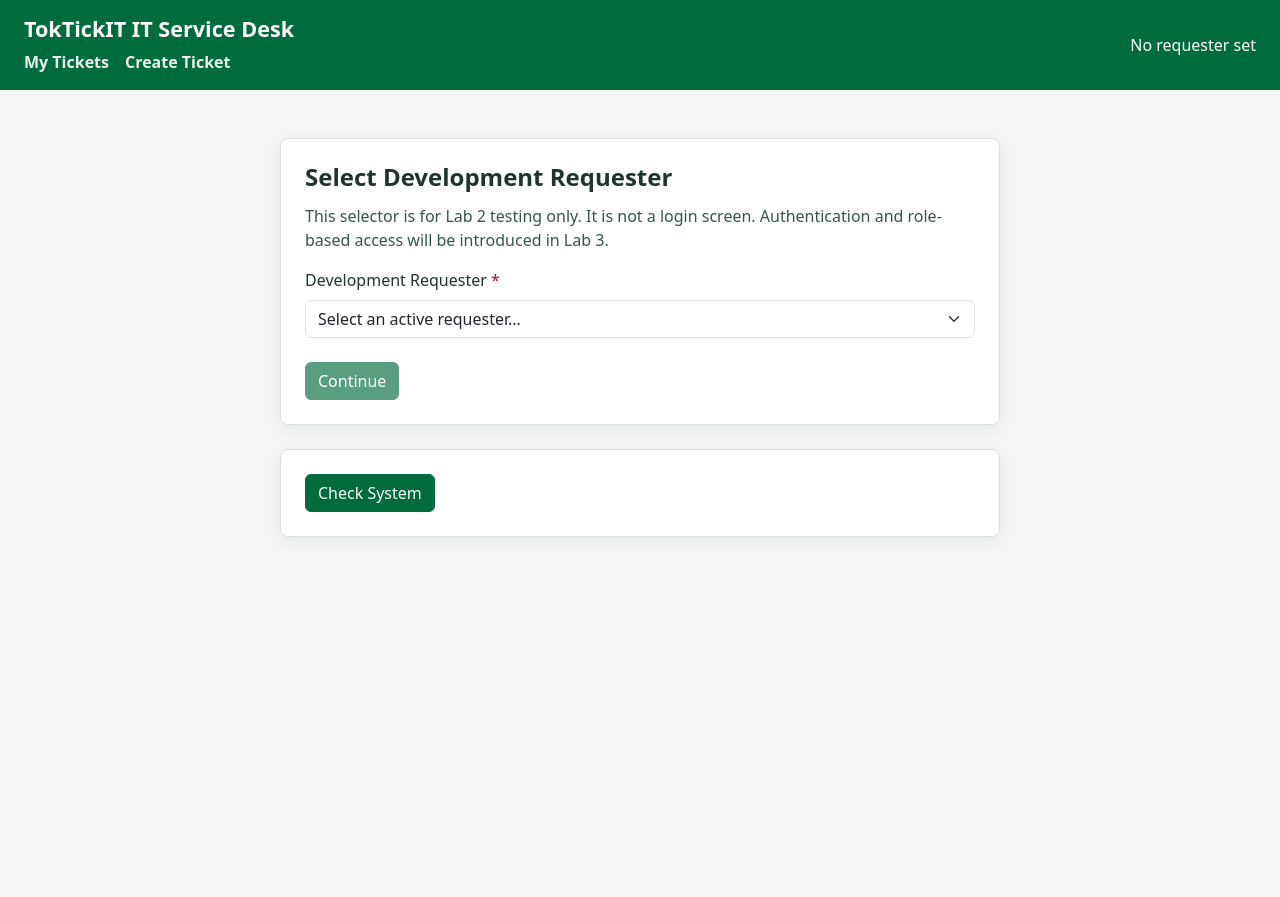
it: Requester Ticket Detail › shows the same safe unavailable state for not-found or unowned Tickets
Select "Anong Student (anong@example.test)" in the dropdown labelled "Development Requester *" at (640, 319), box [305, 300, 975, 338]
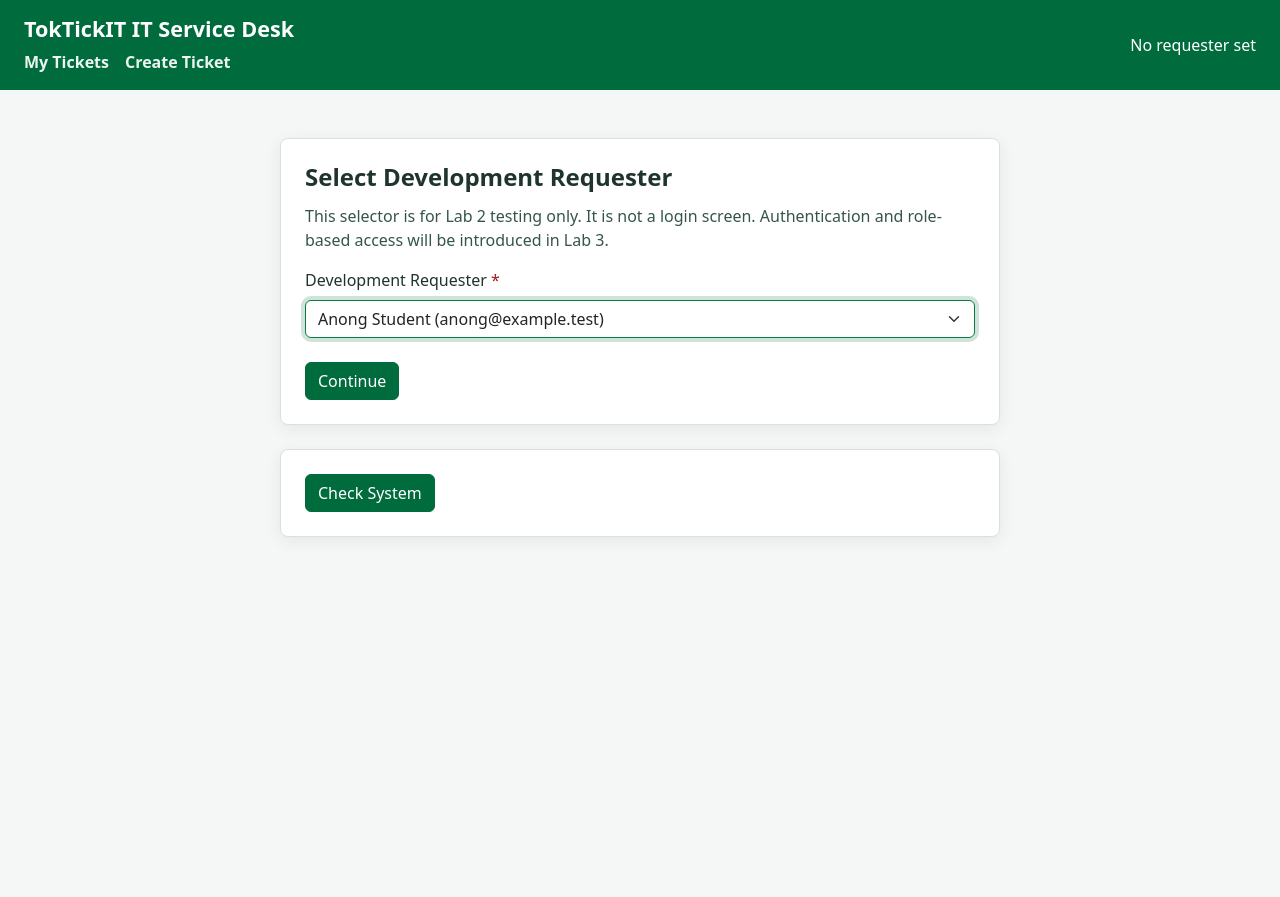
Click the button "Continue".
click(352, 381)  # box [305, 362, 399, 400]
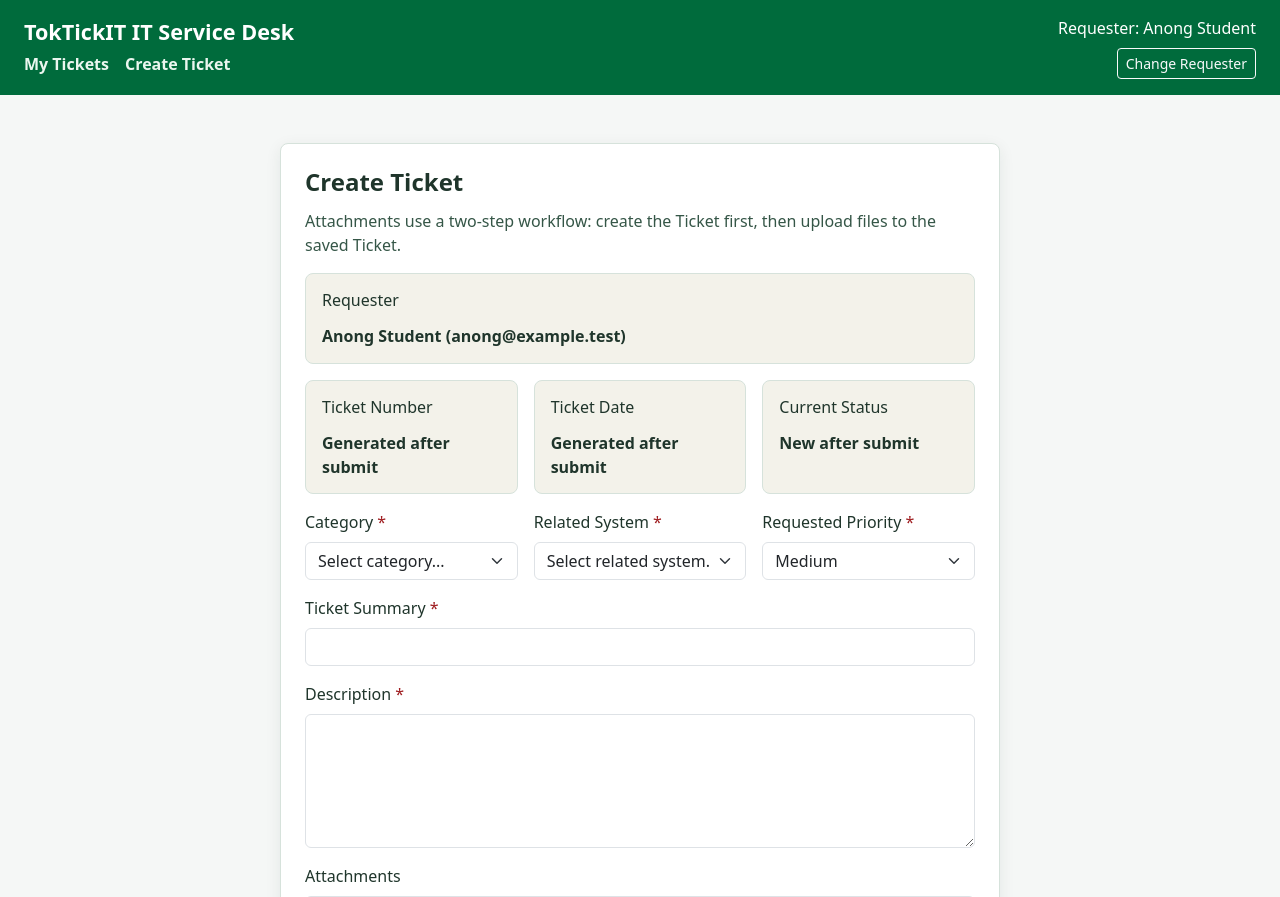
Click the link "My Tickets".
click(66, 64)  # box [24, 52, 109, 76]
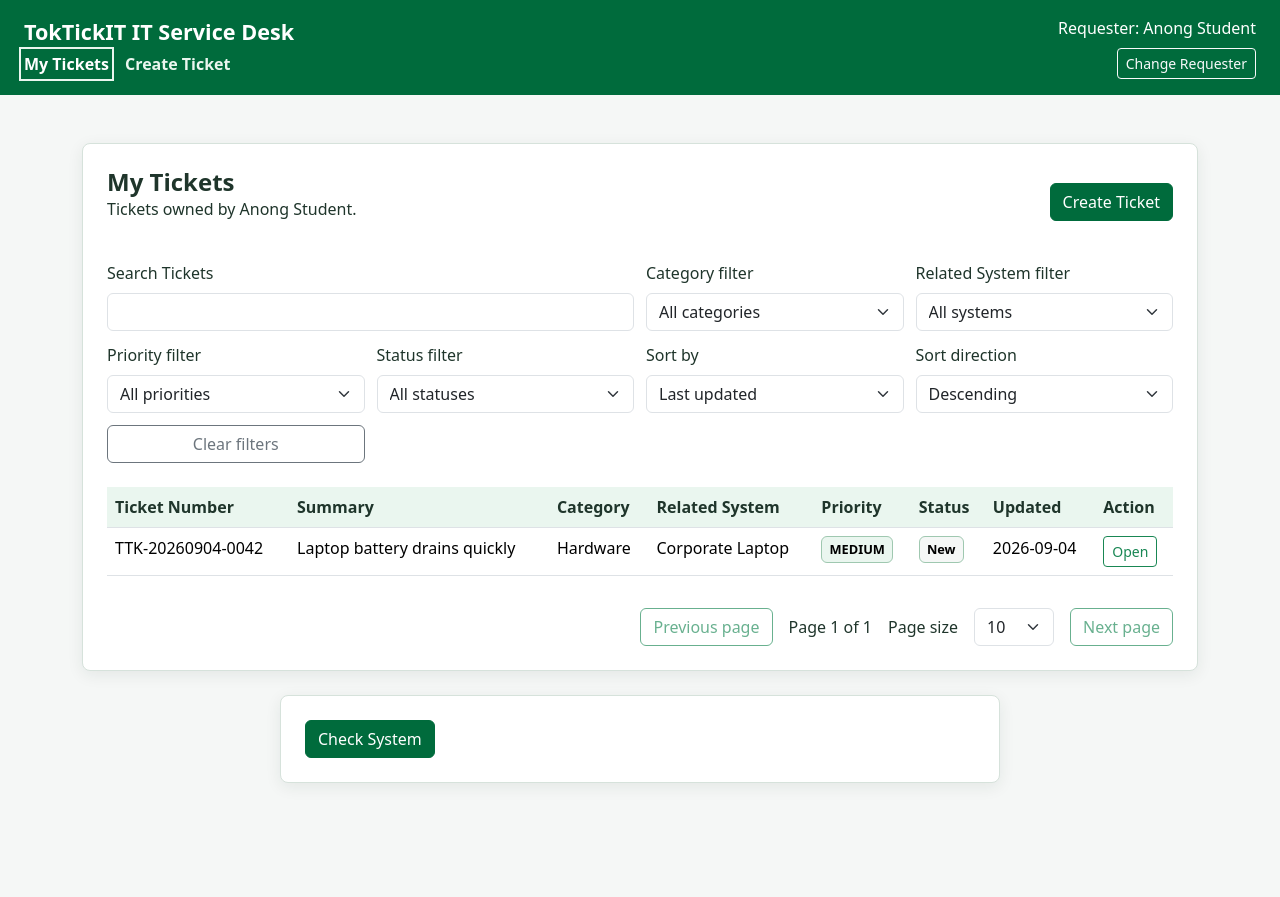
Click the button with aria-label "Open Ticket TTK-20260904-0042".
click(1130, 551)  # box [1103, 536, 1157, 567]
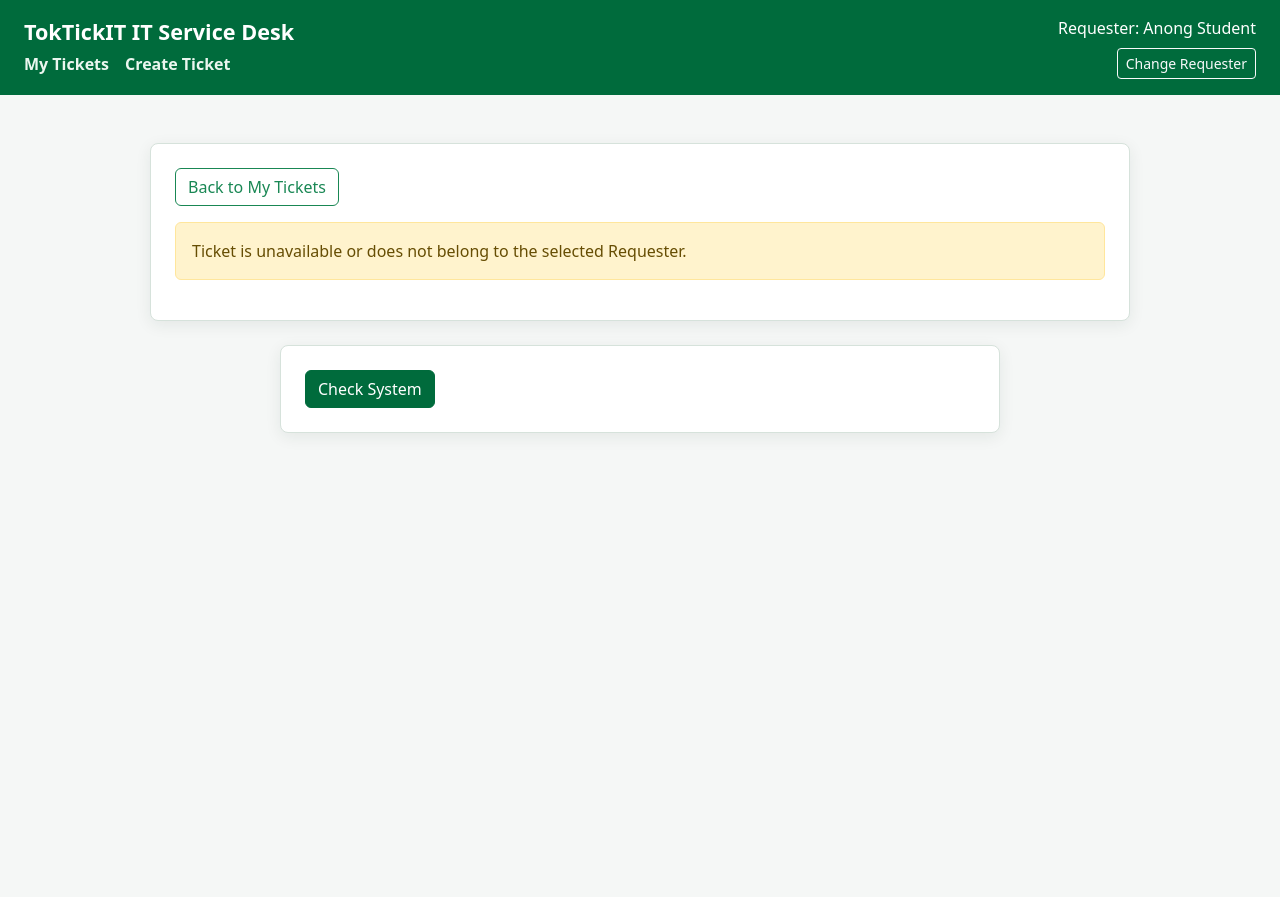
expect the message shows "Ticket is unavailable": met, box [192, 240, 687, 262]
